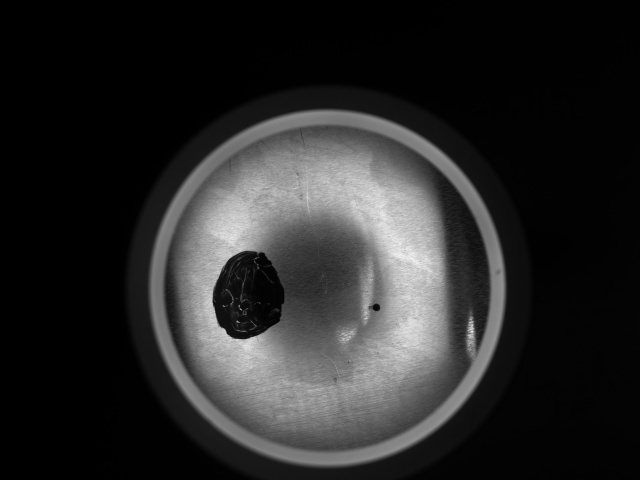zang_wu: (210, 248, 288, 340)
zhen_kong: (368, 301, 380, 314)
